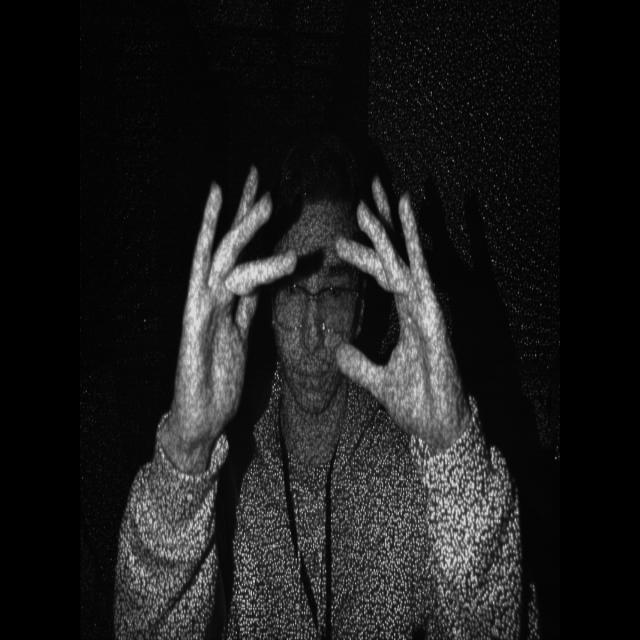REACH: (179, 160, 468, 447)
